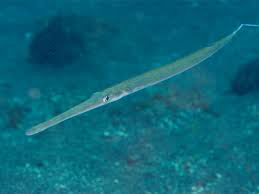sayori: (30, 17, 250, 139)
